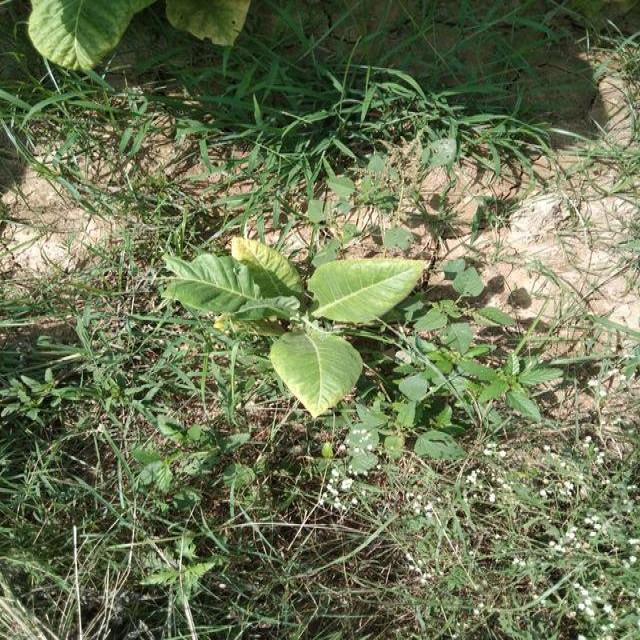crop: (170, 222, 434, 404)
